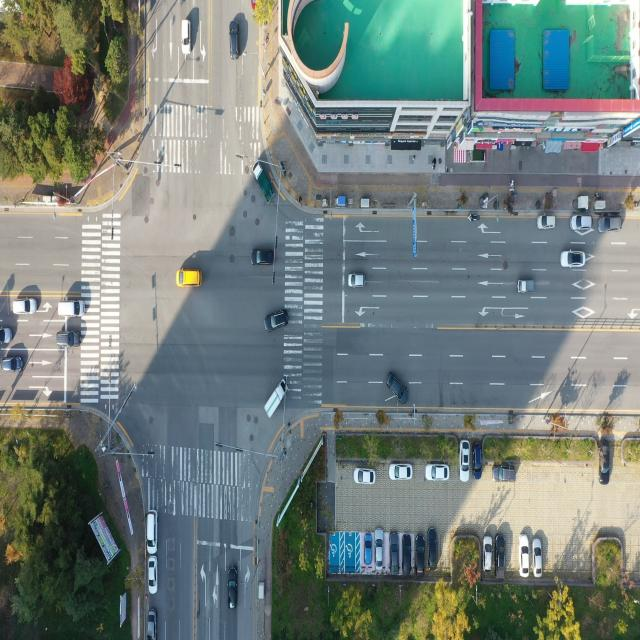car: (385, 372, 408, 404), (266, 311, 290, 333), (490, 464, 518, 482), (176, 270, 202, 289), (146, 510, 157, 554), (58, 301, 84, 319), (600, 439, 612, 478), (427, 527, 437, 571), (229, 567, 239, 610), (57, 333, 82, 350), (390, 533, 400, 575), (404, 534, 414, 576), (560, 251, 584, 268), (230, 20, 240, 60), (375, 528, 385, 568), (416, 535, 426, 575), (252, 249, 274, 267), (388, 464, 411, 481), (600, 216, 623, 233), (14, 300, 38, 316), (146, 555, 156, 593), (460, 442, 470, 480), (496, 536, 505, 578), (572, 215, 594, 232), (428, 464, 450, 481), (181, 19, 191, 56), (519, 535, 528, 575), (472, 443, 482, 479), (145, 611, 157, 640), (353, 468, 374, 484), (485, 537, 494, 574), (532, 537, 541, 574), (363, 532, 372, 565), (2, 358, 22, 372), (536, 215, 554, 230), (348, 274, 366, 288), (0, 330, 13, 346)
small_truck: (267, 378, 288, 417), (255, 166, 276, 204), (517, 280, 535, 294)
